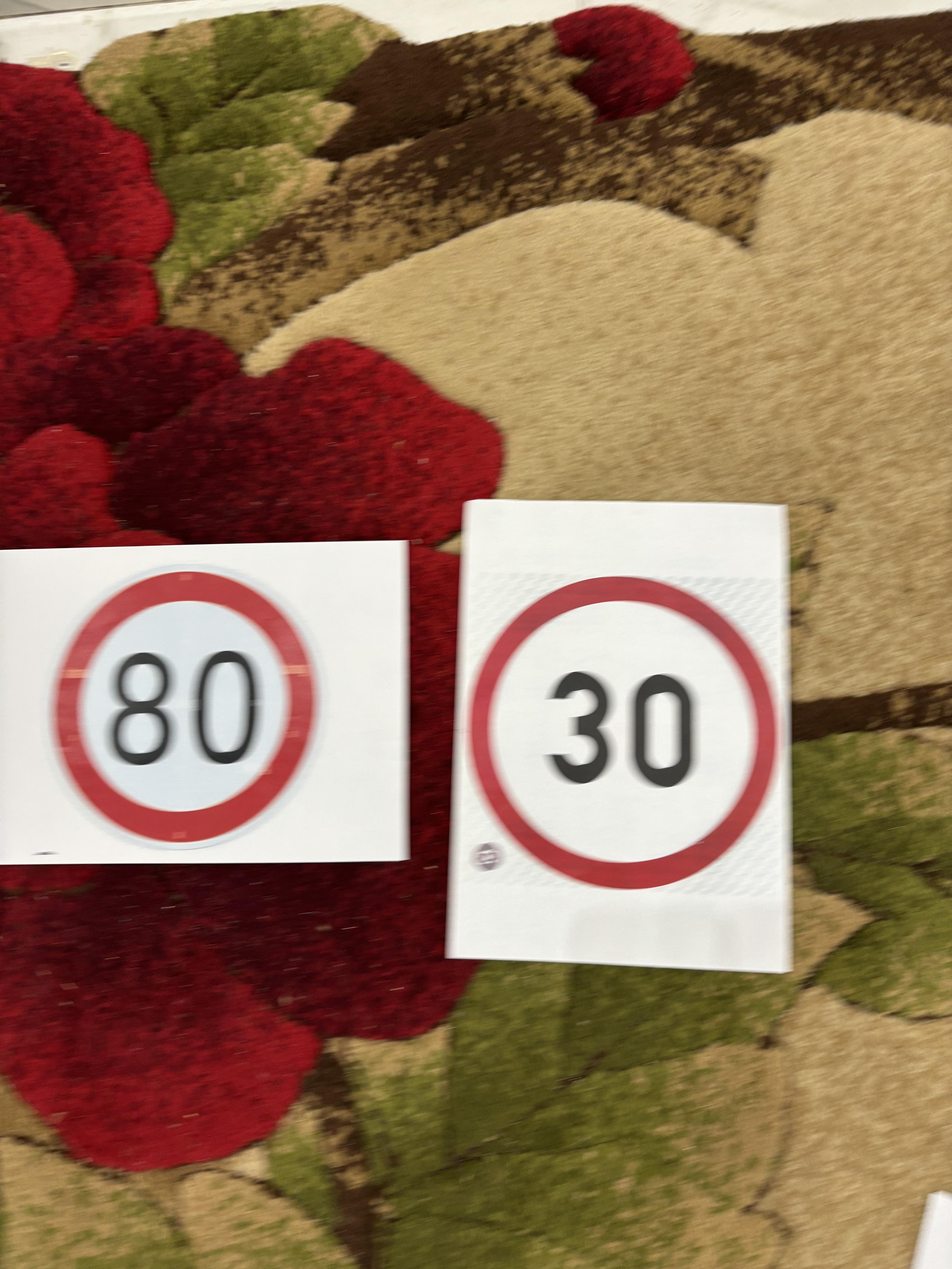30-speed: (459, 576, 794, 895)
80-Speed: (49, 565, 323, 851)
